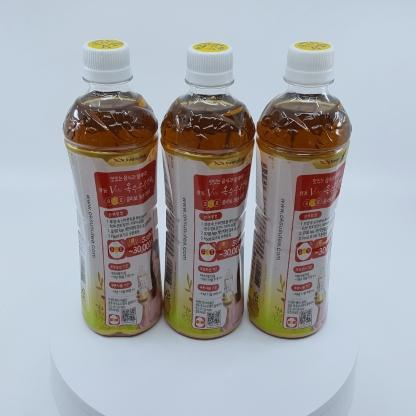---------500ML: (247, 41, 352, 338), (62, 39, 163, 336), (160, 42, 256, 339)
